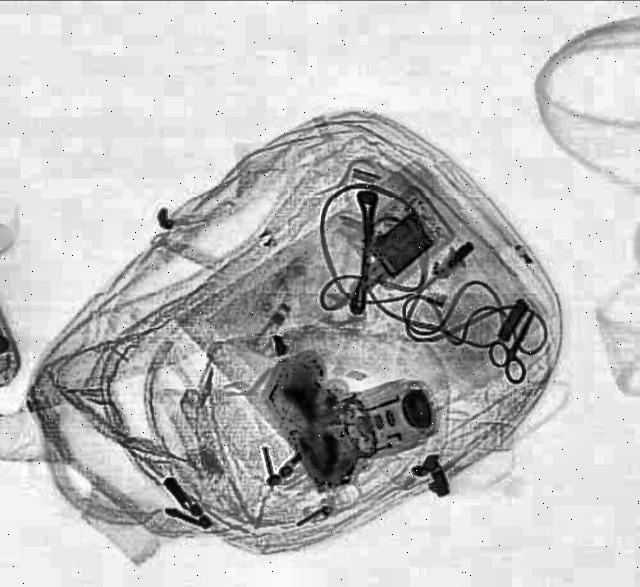Scissors: (474, 306, 554, 388)
